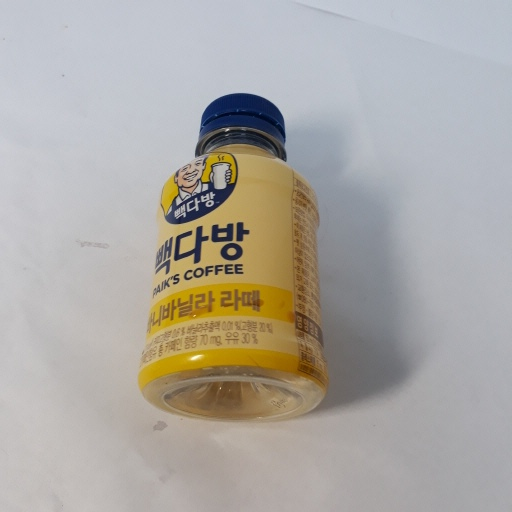Plastic_0: (141, 92, 337, 422)
